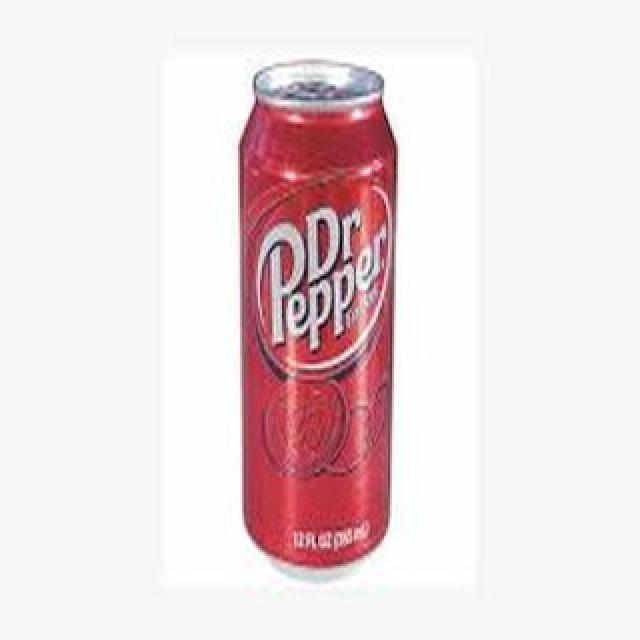recyclable: (236, 59, 402, 586)
